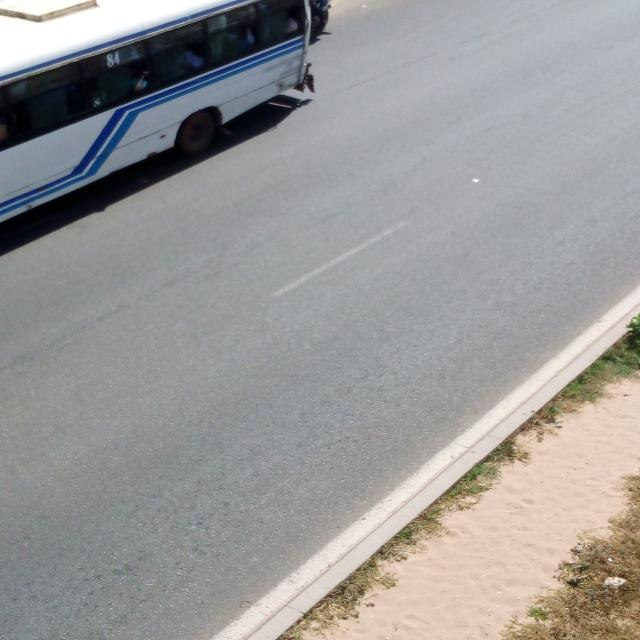bus tata: (1, 1, 311, 221)
